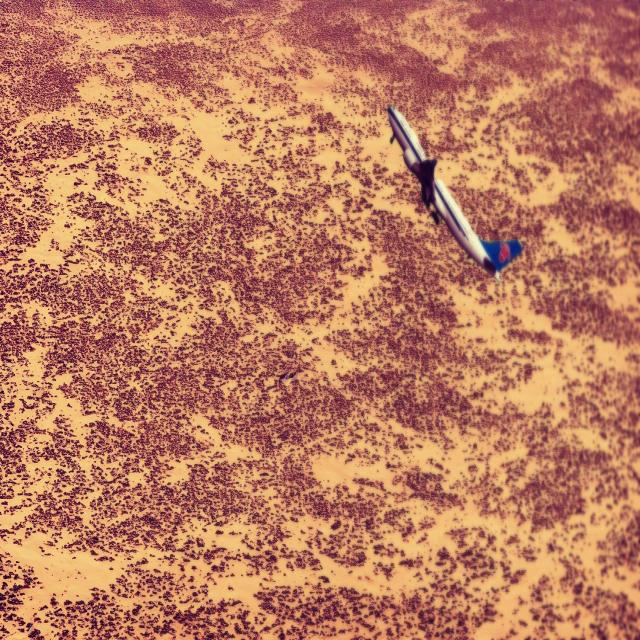airplane: (387, 104, 522, 282)
